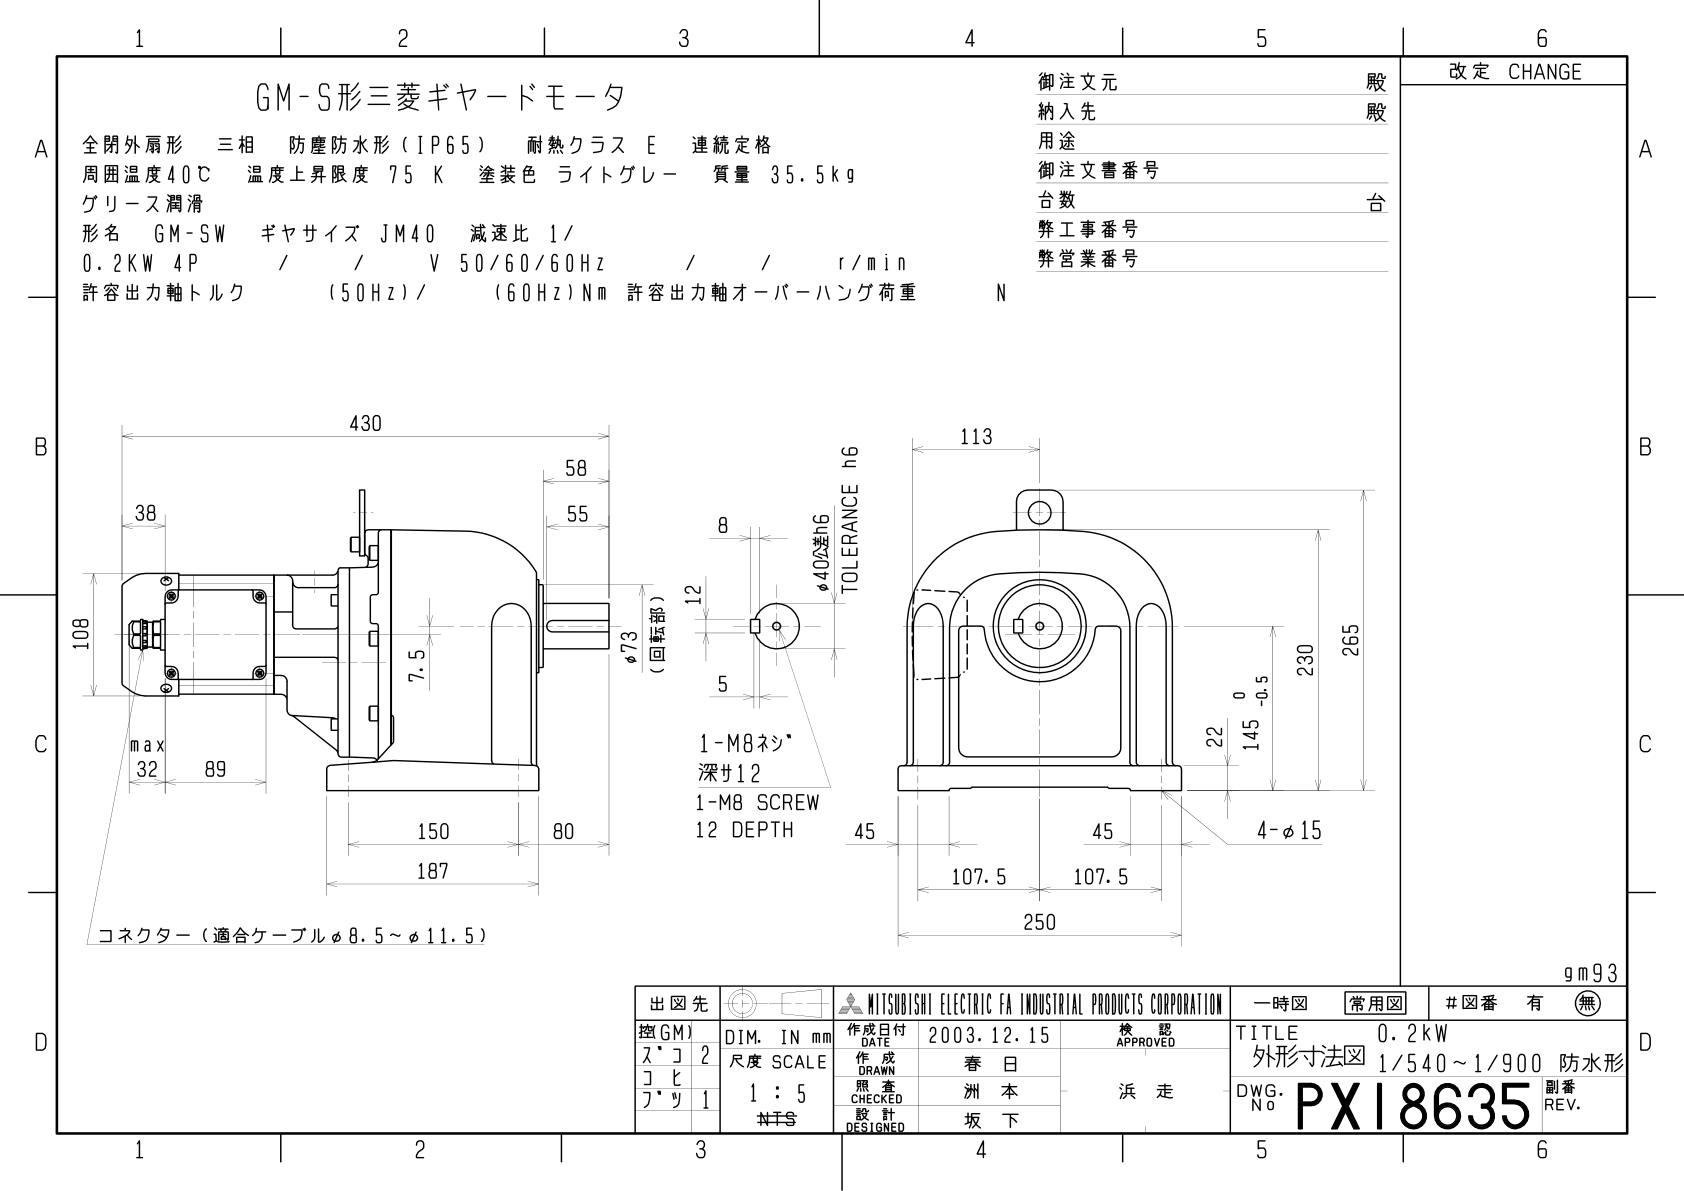GM_S_IP65＿三相_脚: (6, 6, 1674, 1179)
